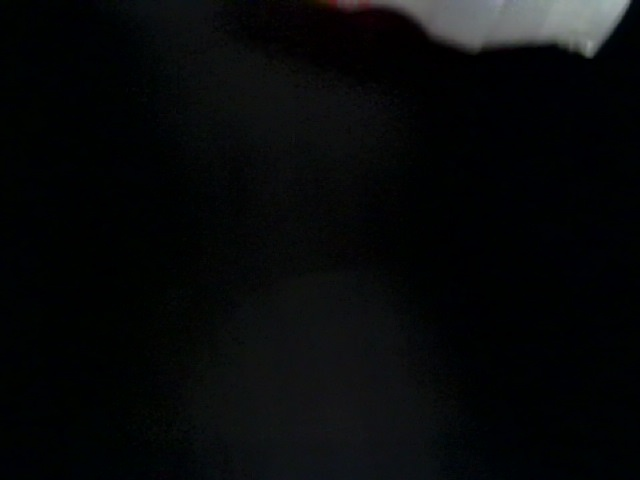CYLJ: (251, 231, 602, 480)
